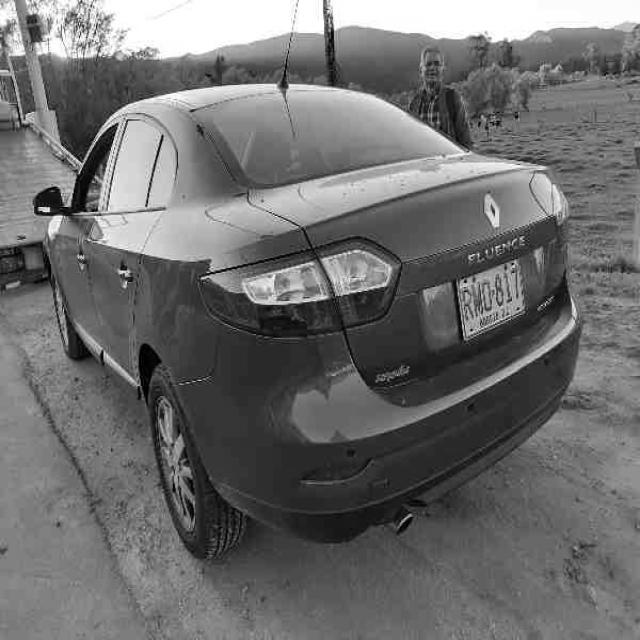plate: (453, 249, 530, 346)
